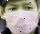with_mask: (2, 1, 40, 34)
